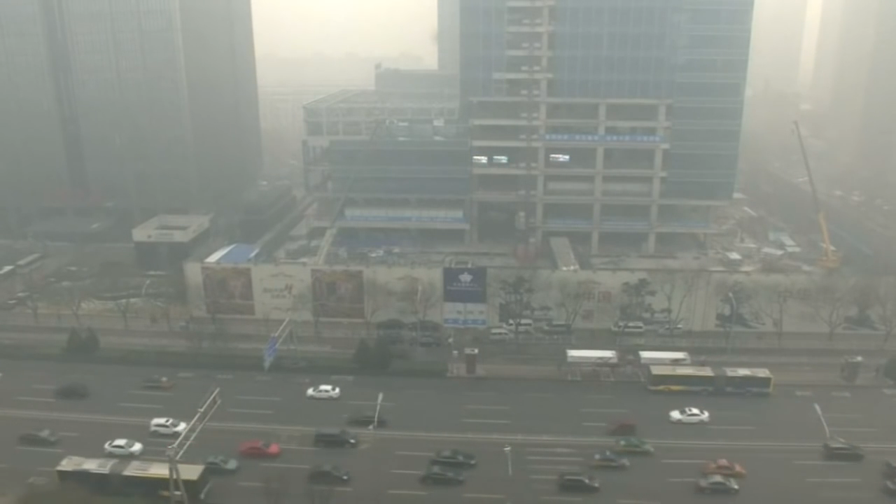bus: (53, 454, 213, 504), (644, 364, 775, 395), (562, 345, 693, 374)
car: (429, 447, 478, 470), (416, 464, 465, 486), (312, 426, 360, 448), (308, 463, 353, 486), (235, 437, 282, 459), (820, 438, 867, 460), (17, 426, 61, 449), (556, 471, 600, 493), (344, 408, 388, 429), (697, 473, 740, 494), (102, 437, 144, 458), (704, 457, 746, 478), (587, 449, 633, 468), (668, 405, 710, 425), (149, 416, 188, 437), (613, 436, 656, 455), (52, 380, 90, 399), (305, 382, 341, 402), (204, 454, 239, 474), (604, 416, 637, 437), (608, 319, 644, 337), (139, 373, 176, 390), (482, 326, 512, 346), (543, 319, 575, 336), (503, 317, 533, 334), (657, 322, 684, 338)
